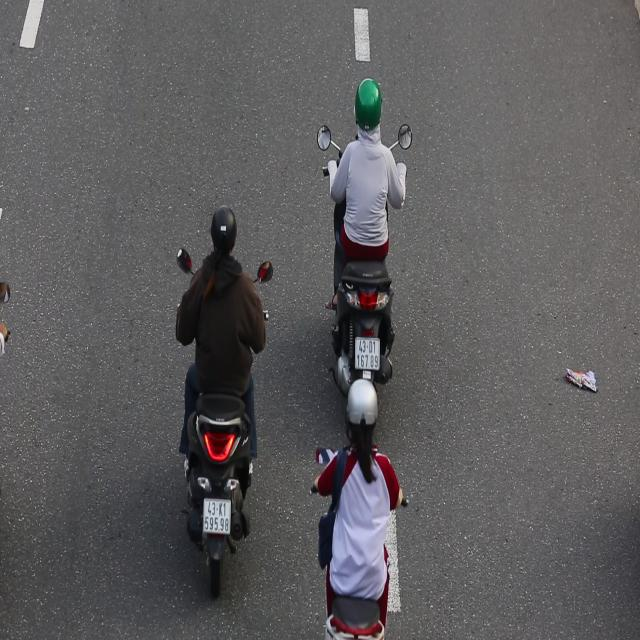motorbike: (171, 199, 272, 606), (317, 66, 415, 380)
